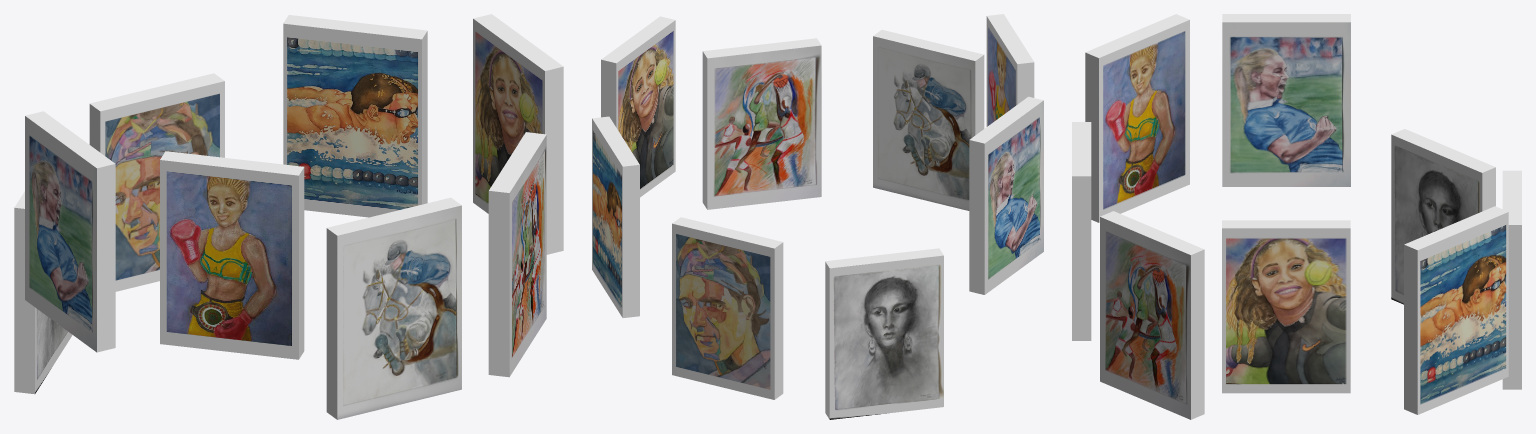
Rendered from 8_portrait.obj.
3 views of the same model, side by side, from view 1: azimuth 30°, elevation 25°; view 2: azimuth 150°, elevation 25°; view 3: azimuth 270°, elevation 25° (orthographic). The views are drawn at different scales.
Parts seen in each view (by area): view 1: Cube_8, Cube_2, Cube_6, Cube_4, Cube_1, Cube_3, Cube_5, Cube_7; view 2: Cube_5, Cube_7, Cube_1, Cube_6, Cube_4, Cube_3, Cube_2, Cube_8; view 3: Cube_3, Cube_4, Cube_5, Cube_2, Cube_8, Cube_7, Cube_6, Cube_1.
Boxes of the visible parts, x1=… form: Cube_8: x1=160, y1=151, x2=304, y2=359; Cube_2: x1=283, y1=15, x2=427, y2=217; Cube_6: x1=326, y1=197, x2=461, y2=419; Cube_4: x1=25, y1=111, x2=115, y2=352; Cube_1: x1=89, y1=73, x2=224, y2=291; Cube_3: x1=473, y1=14, x2=563, y2=254; Cube_5: x1=488, y1=132, x2=546, y2=377; Cube_7: x1=14, y1=191, x2=72, y2=394; Cube_5: x1=702, y1=38, x2=821, y2=209; Cube_7: x1=825, y1=248, x2=943, y2=419; Cube_1: x1=672, y1=217, x2=783, y2=399; Cube_6: x1=873, y1=29, x2=984, y2=210; Cube_4: x1=969, y1=96, x2=1043, y2=294; Cube_3: x1=601, y1=16, x2=675, y2=197; Cube_2: x1=592, y1=116, x2=639, y2=317; Cube_8: x1=986, y1=14, x2=1034, y2=126; Cube_3: x1=1222, y1=220, x2=1350, y2=393; Cube_4: x1=1222, y1=14, x2=1350, y2=186; Cube_5: x1=1100, y1=211, x2=1204, y2=419; Cube_2: x1=1404, y1=206, x2=1508, y2=414; Cube_8: x1=1085, y1=14, x2=1189, y2=222; Cube_7: x1=1391, y1=129, x2=1495, y2=304; Cube_6: x1=1072, y1=122, x2=1091, y2=340; Cube_1: x1=1502, y1=170, x2=1521, y2=389.
Size of the model in its own units: 1124 by 739 by 1049.
Materials: 9 (8 with a texture image).
